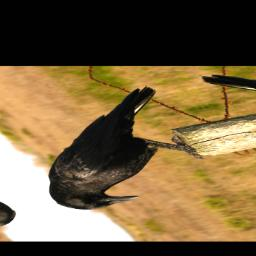Crow: (0, 84, 256, 214)
